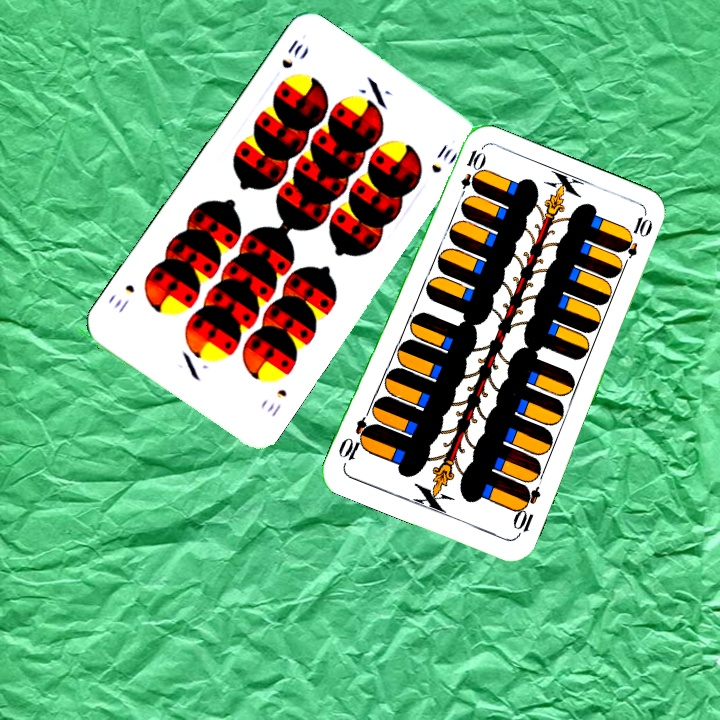E10: (508, 481, 543, 539), (454, 145, 484, 203)
S10: (277, 35, 310, 71), (263, 384, 290, 420)
